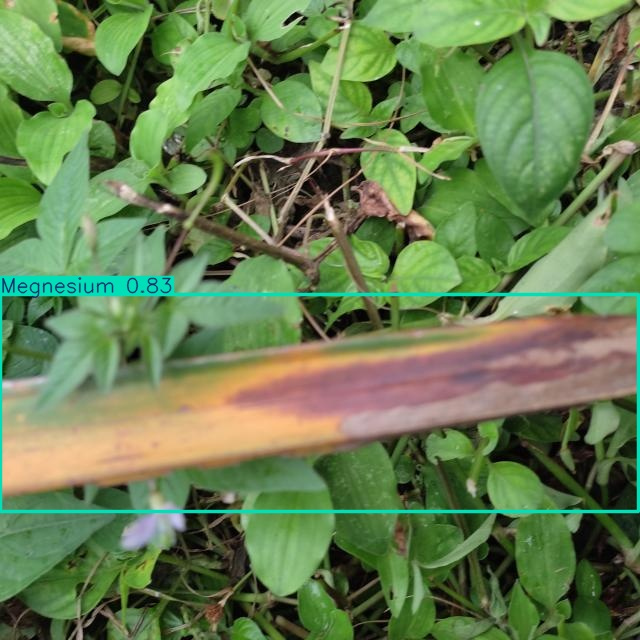Megnesium: (1, 295, 638, 512)
